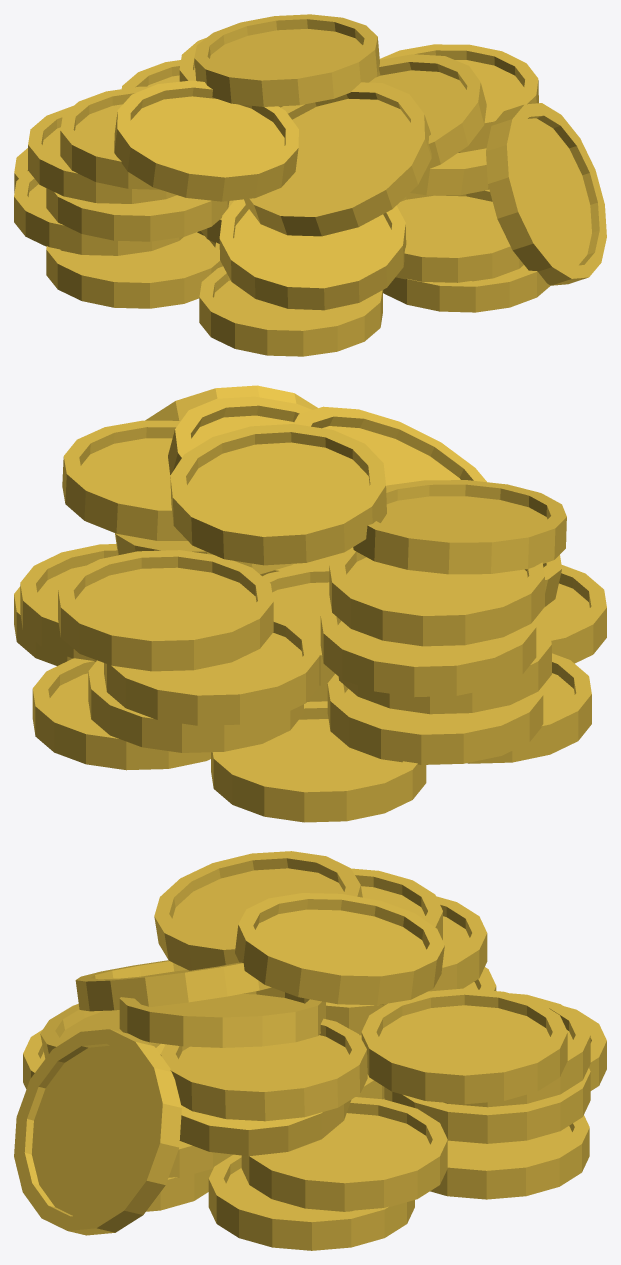
Rendered from SM_SM_Coin-01.fbx.
3 renders of one model, top to bottom at view 1: azimuth 30°, elevation 25°; view 2: azimuth 150°, elevation 25°; view 3: azimuth 270°, elevation 25°, orthographic. The views are drawn at different scales.
Visible parts, largest first — view 1: SM_Coin-01; view 2: SM_Coin-01; view 3: SM_Coin-01.
Boxes of the visible parts, x1,y1,x2,y2 form: SM_Coin-01: [14, 14, 606, 356]; SM_Coin-01: [14, 385, 606, 822]; SM_Coin-01: [14, 851, 606, 1250].
Bounding box in the file's own units: 70.63 × 27.64 × 69.47.
